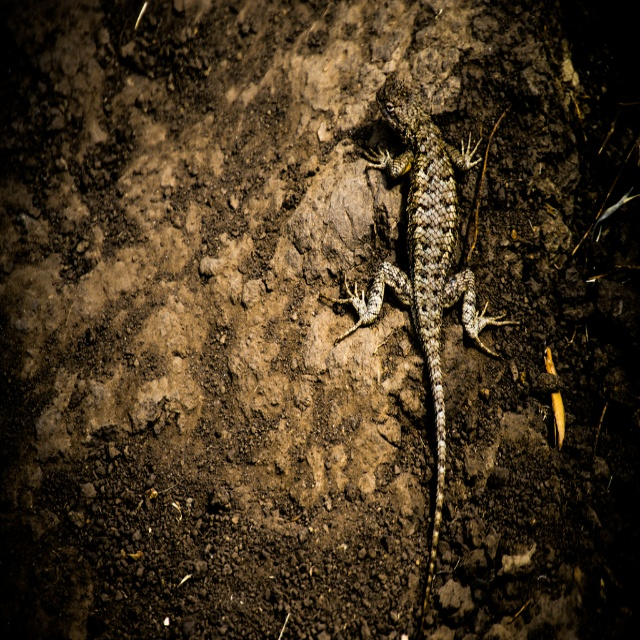Lizard: (338, 126, 516, 582)
